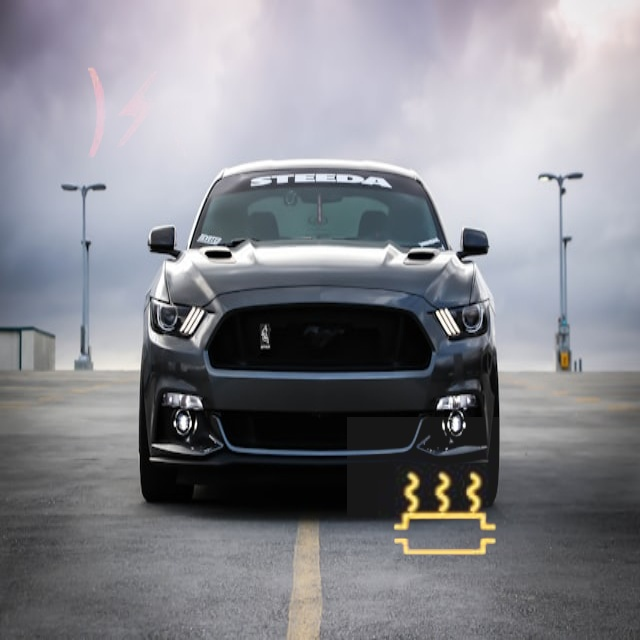symbol: (347, 417, 543, 613), (44, 19, 233, 208)
